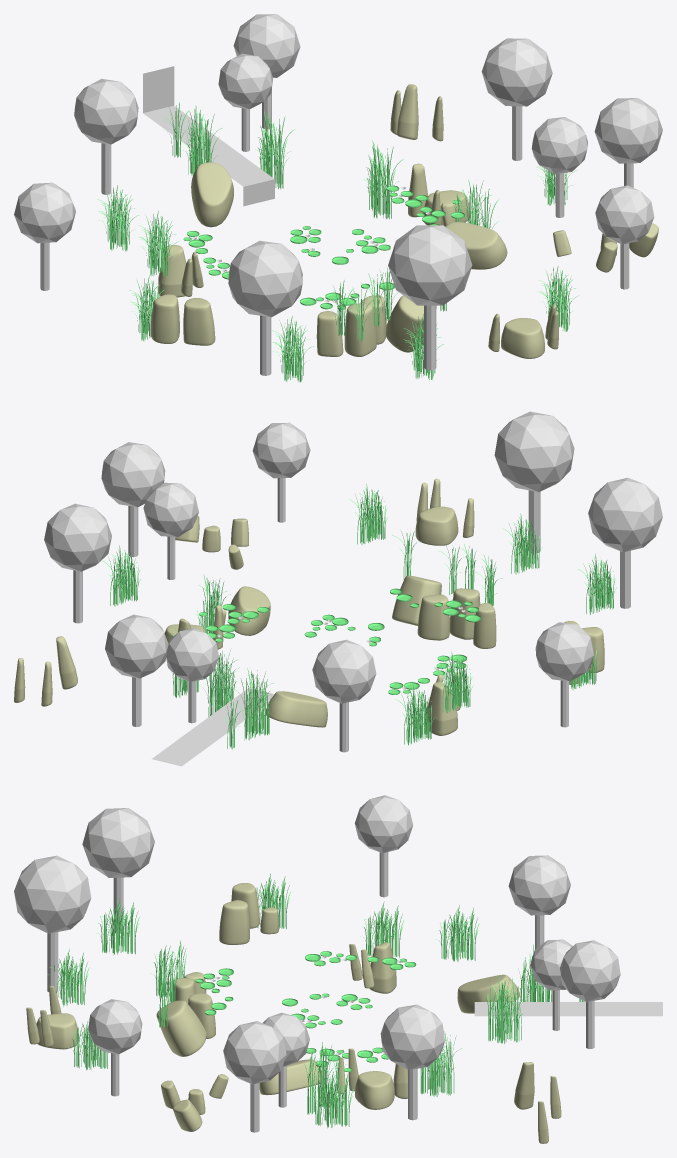
Rendered from Environment.glb.
The picture shows the model from 3 angles, top to bottom: view 1: azimuth 30°, elevation 25°; view 2: azimuth 150°, elevation 25°; view 3: azimuth 270°, elevation 25°; orthographic projection. The views are drawn at different scales.
Visible parts, largest first — view 1: BirchTree.001, BirchTree.002, Waterfall, BirchTree.008, BirchTree.009, BirchTree.006, BirchTree.003, BirchTree, BirchTree.005, BirchTree.007, BirchTree.004, StoneRound.010 (+12 smaller); view 2: BirchTree.001, BirchTree.002, BirchTree.008, BirchTree.006, BirchTree.009, BirchTree.005, BirchTree.003, BirchTree, BirchTree.007, Waterfall, BirchTree.004, StoneRound.010 (+9 smaller); view 3: BirchTree.001, BirchTree.002, BirchTree.008, BirchTree.006, BirchTree.005, BirchTree.009, BirchTree.003, BirchTree, Waterfall, StoneRound.003, BirchTree.004, BirchTree.007 (+10 smaller).
Boxes of the visible parts, left/top/right/bottom form: BirchTree.001: left=388, top=225, right=472, bottom=370; BirchTree.002: left=228, top=240, right=302, bottom=375; Waterfall: left=143, top=66, right=274, bottom=206; BirchTree.008: left=481, top=38, right=552, bottom=160; BirchTree.009: left=74, top=78, right=138, bottom=194; BirchTree.006: left=594, top=98, right=662, bottom=187; BirchTree.003: left=14, top=182, right=75, bottom=290; BirchTree: left=595, top=185, right=654, bottom=289; BirchTree.005: left=233, top=14, right=300, bottom=129; BirchTree.007: left=531, top=117, right=587, bottom=217; BirchTree.004: left=218, top=53, right=273, bottom=151; StoneRound.010: left=191, top=162, right=233, bottom=227; BirchTree.001: left=494, top=411, right=574, bottom=553; BirchTree.002: left=588, top=477, right=662, bottom=608; BirchTree.008: left=44, top=503, right=111, bottom=623; BirchTree.006: left=101, top=442, right=165, bottom=557; BirchTree.009: left=312, top=639, right=376, bottom=752; BirchTree.005: left=105, top=614, right=168, bottom=726; BirchTree.003: left=535, top=622, right=593, bottom=727; BirchTree: left=252, top=422, right=310, bottom=522; BirchTree.007: left=143, top=482, right=198, bottom=579; Waterfall: left=152, top=688, right=274, bottom=766; BirchTree.004: left=166, top=628, right=218, bottom=723; StoneRound.010: left=266, top=691, right=327, bottom=727; BirchTree.001: left=14, top=855, right=91, bottom=992; BirchTree.002: left=82, top=808, right=154, bottom=933; BirchTree.008: left=380, top=1004, right=444, bottom=1120; BirchTree.006: left=223, top=1021, right=286, bottom=1132; BirchTree.005: left=560, top=940, right=620, bottom=1048; BirchTree.009: left=508, top=855, right=570, bottom=949; BirchTree.003: left=354, top=795, right=413, bottom=897; BirchTree: left=88, top=999, right=142, bottom=1096; Waterfall: left=474, top=1002, right=662, bottom=1016; StoneRound.003: left=156, top=1000, right=206, bottom=1056; BirchTree.004: left=530, top=939, right=572, bottom=1030; BirchTree.007: left=263, top=1012, right=309, bottom=1107.
Bounding box in the file's own units: 36.4 × 11.15 × 38.32.
